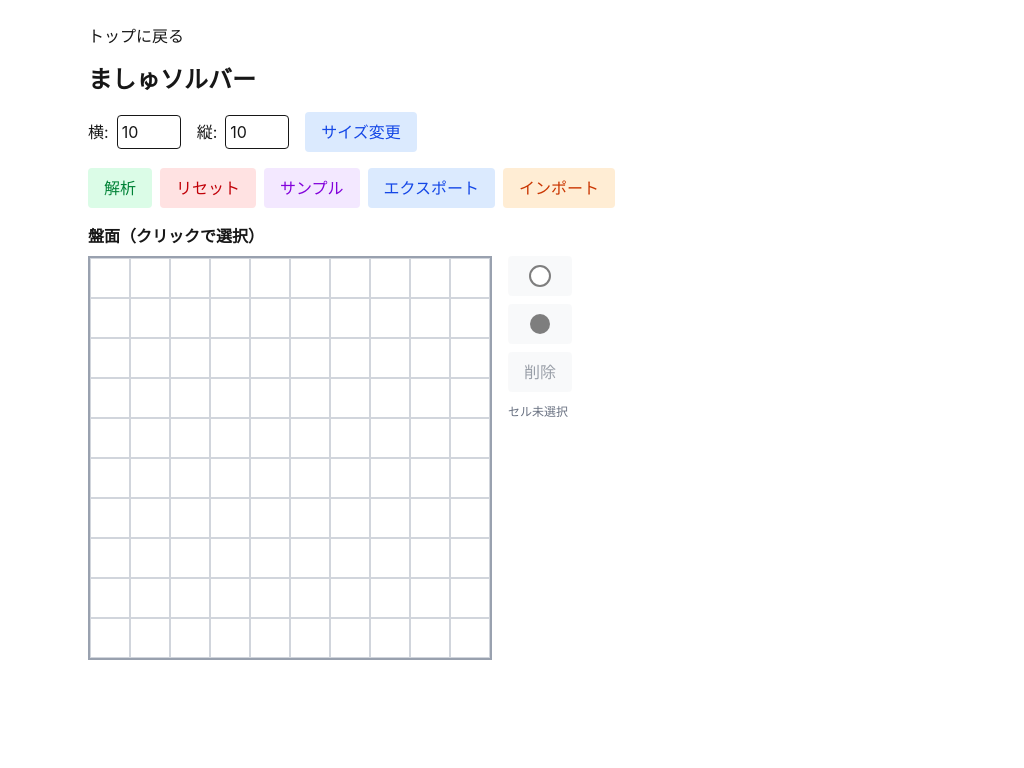
Scenario: MashuPage › 再解析することで解ける大きめの盤面を完成できる
The width and height of the screenshot is (1024, 768).
Click the button "インポート" at (559, 188), box 503,168 -> 615,208
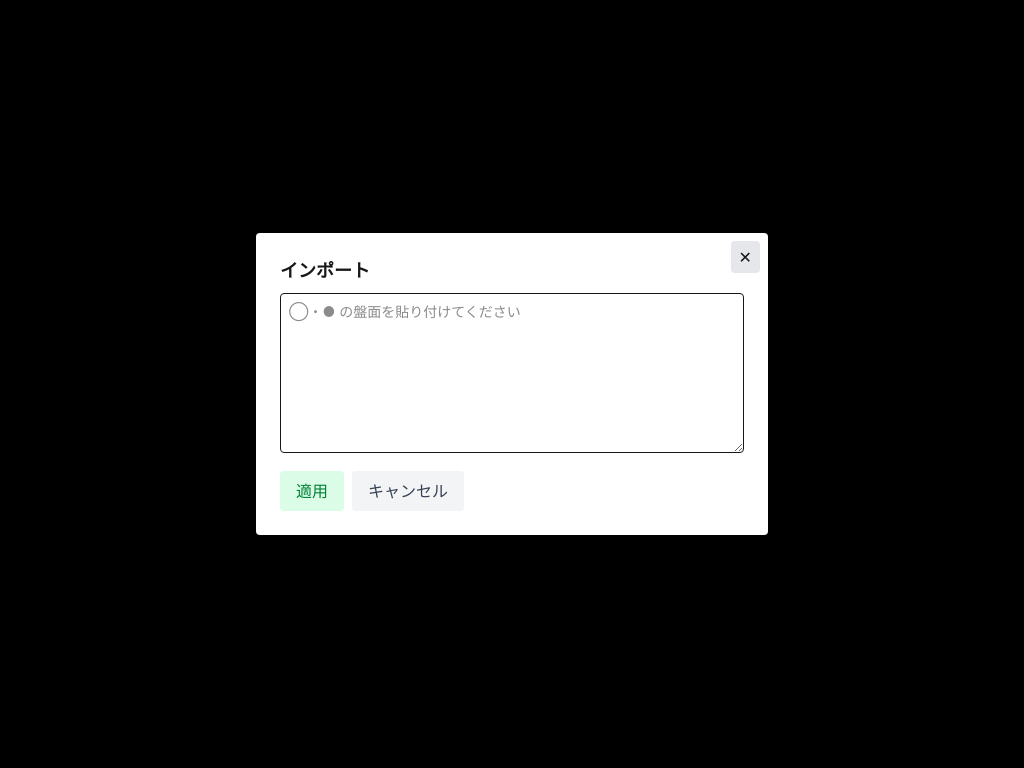
Type "・・・◯・◯・・・●・◯・●・◯・●・・・ ・・・・・・・◯・・・・・・・・・・・・● ◯・●・・●・・・・●・・・・◯・・・・・ ・・・・・・・・◯・・・・◯・・・●・◯・ ・・◯・◯・●・・・◯・・・・●・・・・◯ ●・・・・・・◯・●・・●・・・・・◯・・ ・・・・◯・・・・・・・・・◯・・・・・● ・・●・・・●・・・・・・・・・・・◯・・ ◯・・・◯・・◯・・◯・◯・・●・・・・◯ ・・" into the text box with placeholder "◯・● の盤面を貼り付けてください" at (512, 373), box 280,293 -> 744,453
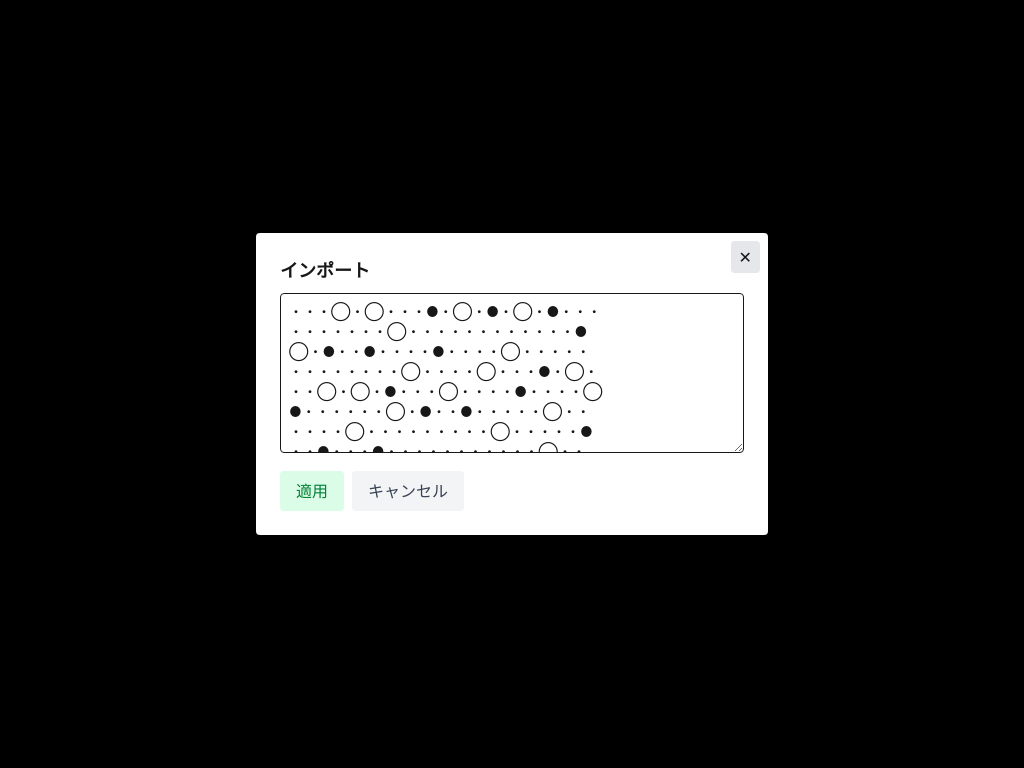
Click the button "適用" at (312, 491), box 280,471 -> 344,511
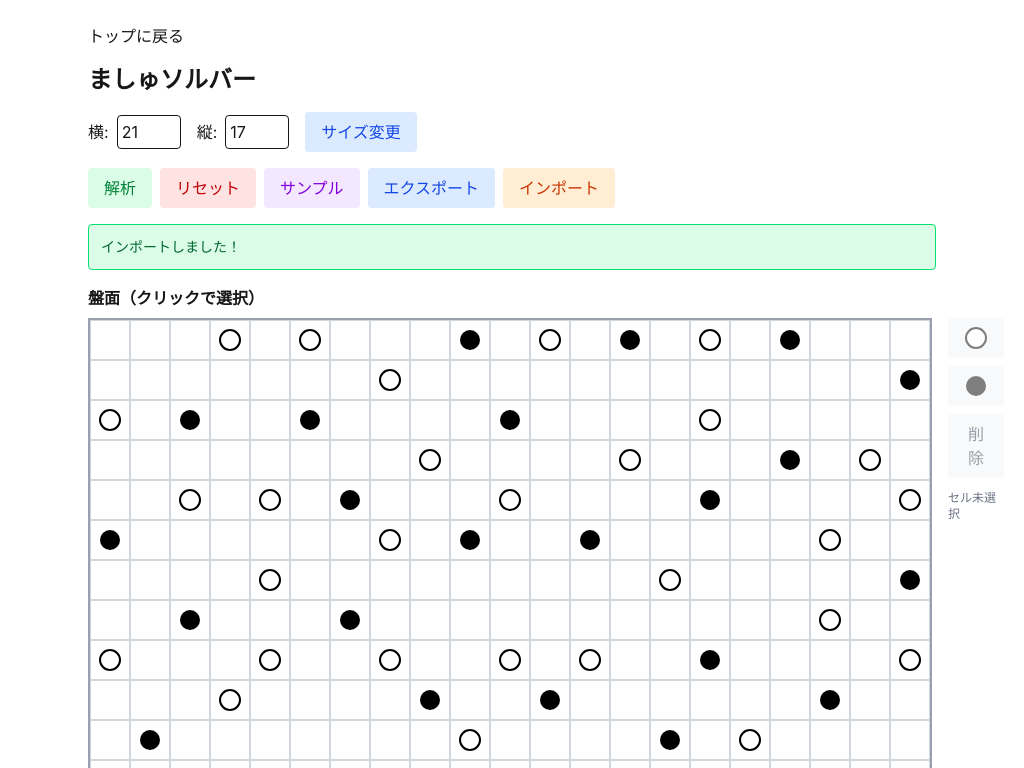
Now the text "インポートしました！" is shown, box 88,224 -> 936,270
Click the button "解析" at (120, 188), box 88,168 -> 152,208
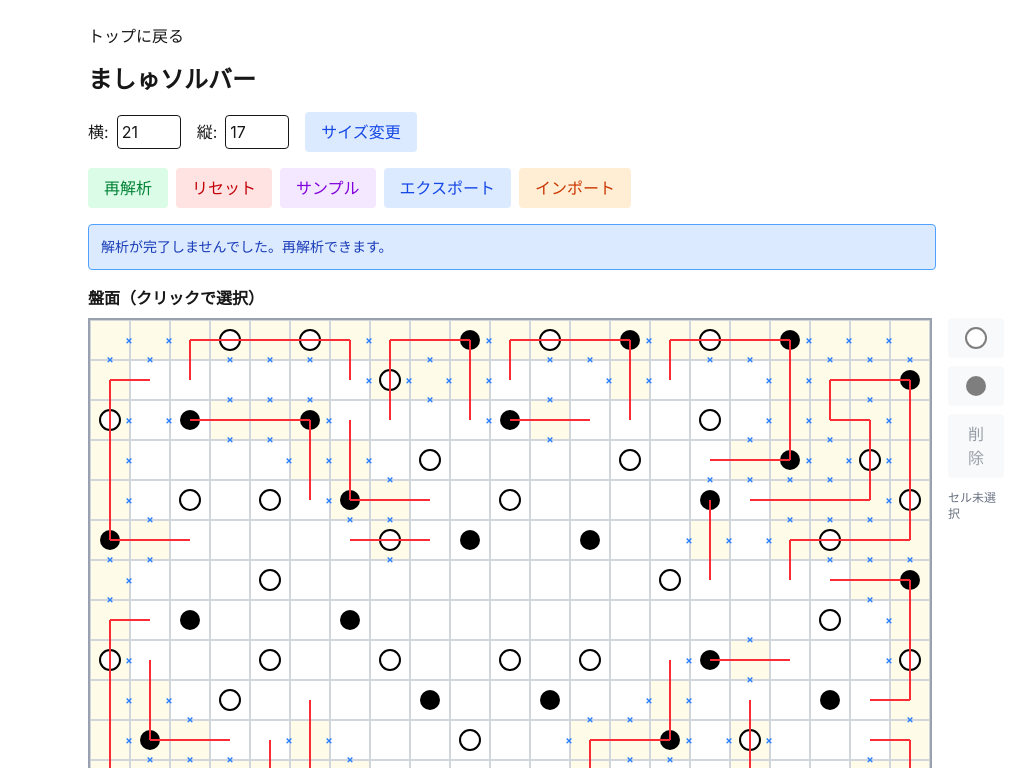
Click the button "再解析" at (128, 188), box 88,168 -> 168,208
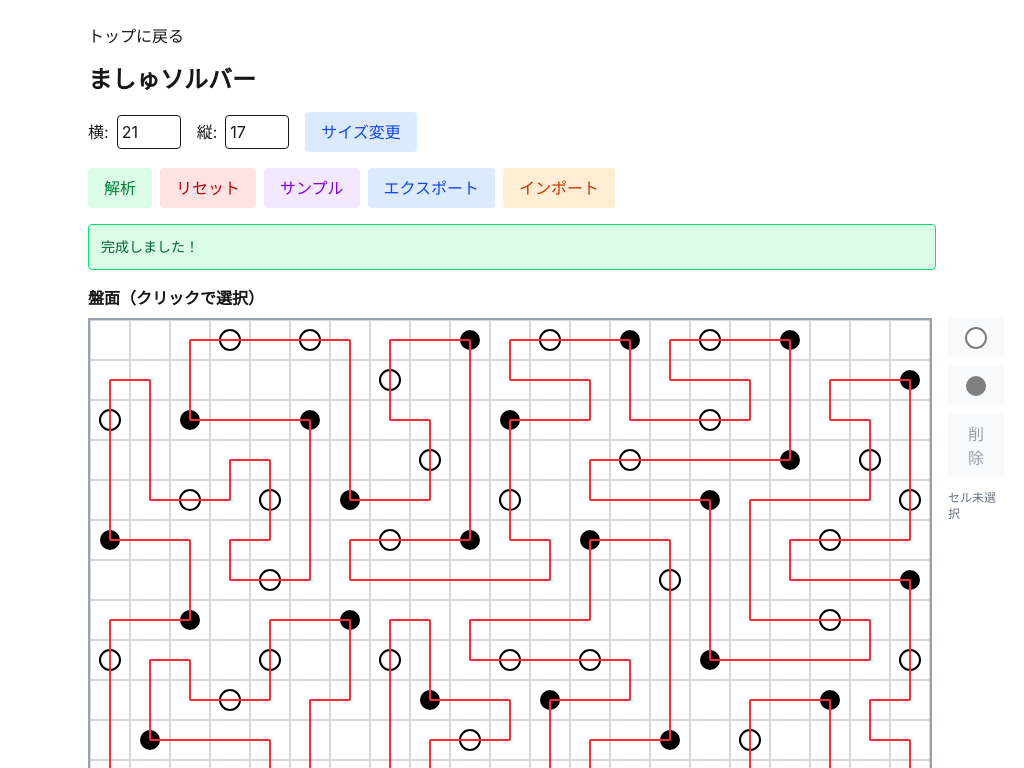
Now the text "完成しました！" is shown, box 88,224 -> 936,270
